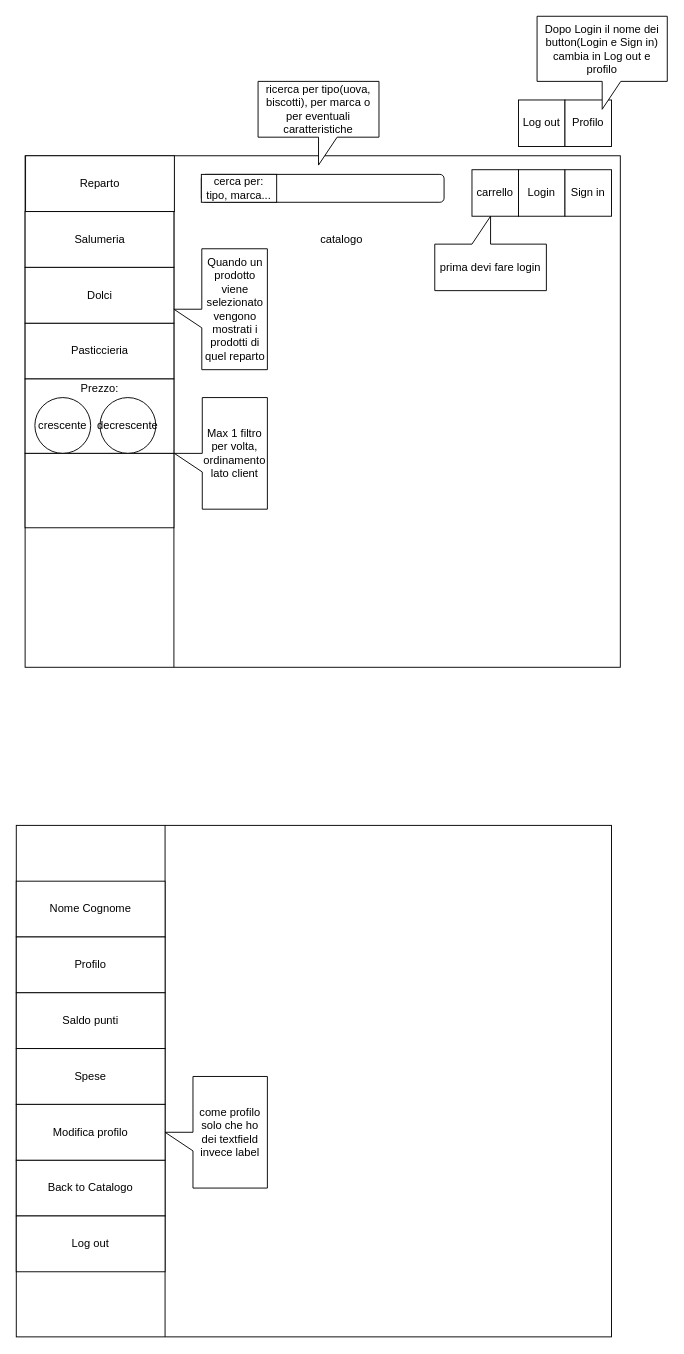
The diagram is 684 pixels wide and 1354 high, and some of its shapes have lost their labels. Each missing label, with the box of its shape:
Ordine alfabetico per marca (checkBox): (24, 452, 174, 528)
ricerca: (200, 173, 444, 202)
